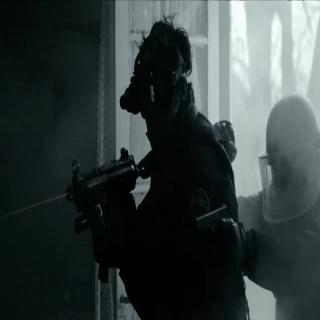gun: (64, 146, 140, 284), (195, 201, 235, 274)
